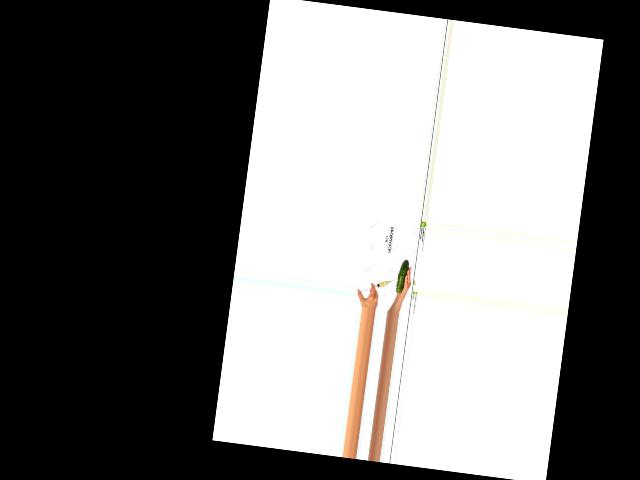cucumber: (396, 259, 409, 294)
